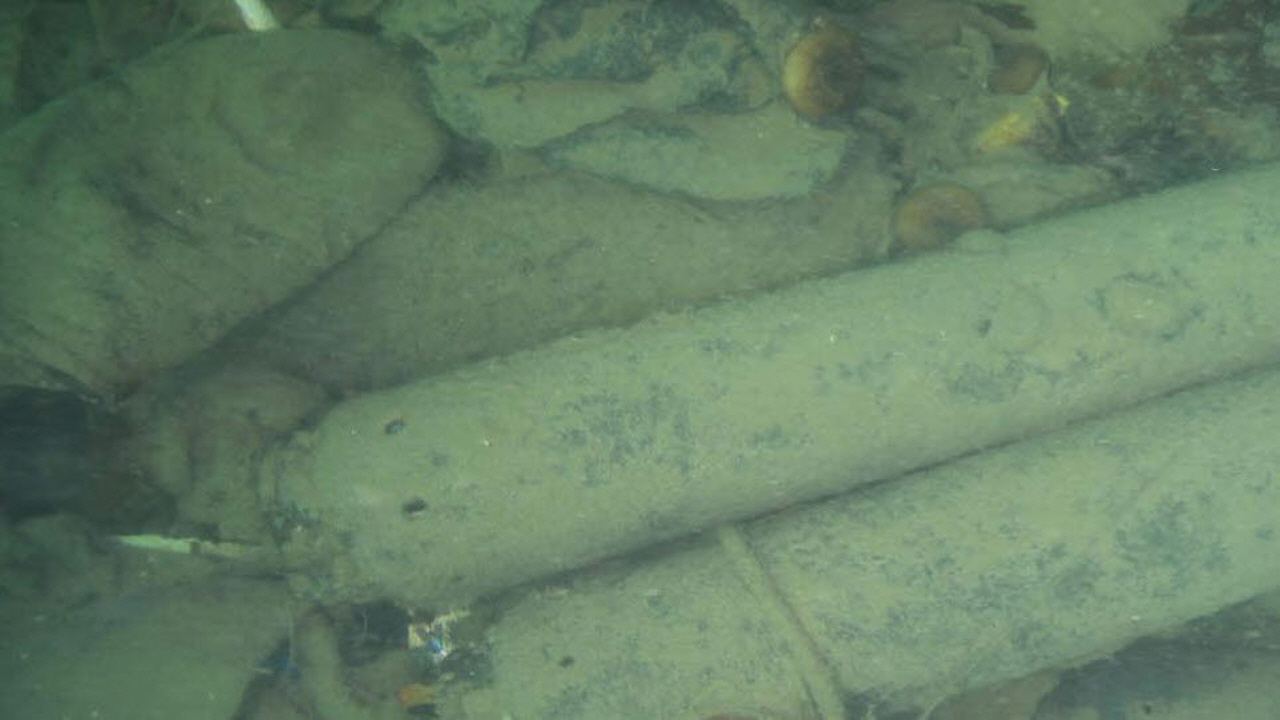eel fish trap: (275, 168, 1280, 604), (461, 358, 1280, 720)
rope: (704, 513, 855, 720)
